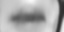LeftEyeFatigue: (5, 4, 55, 31)
